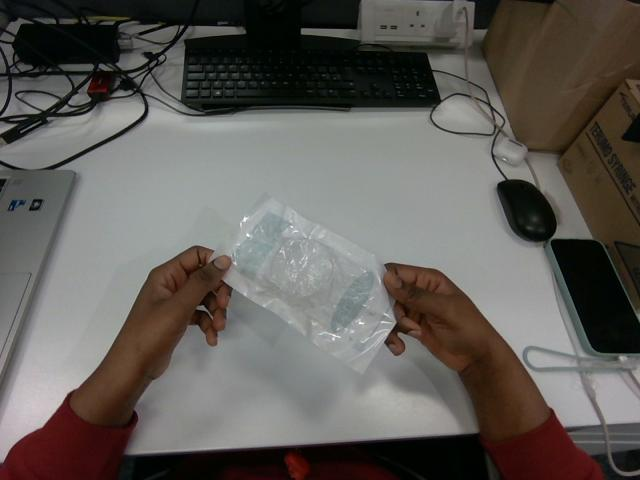gallipot: (216, 195, 394, 372)
